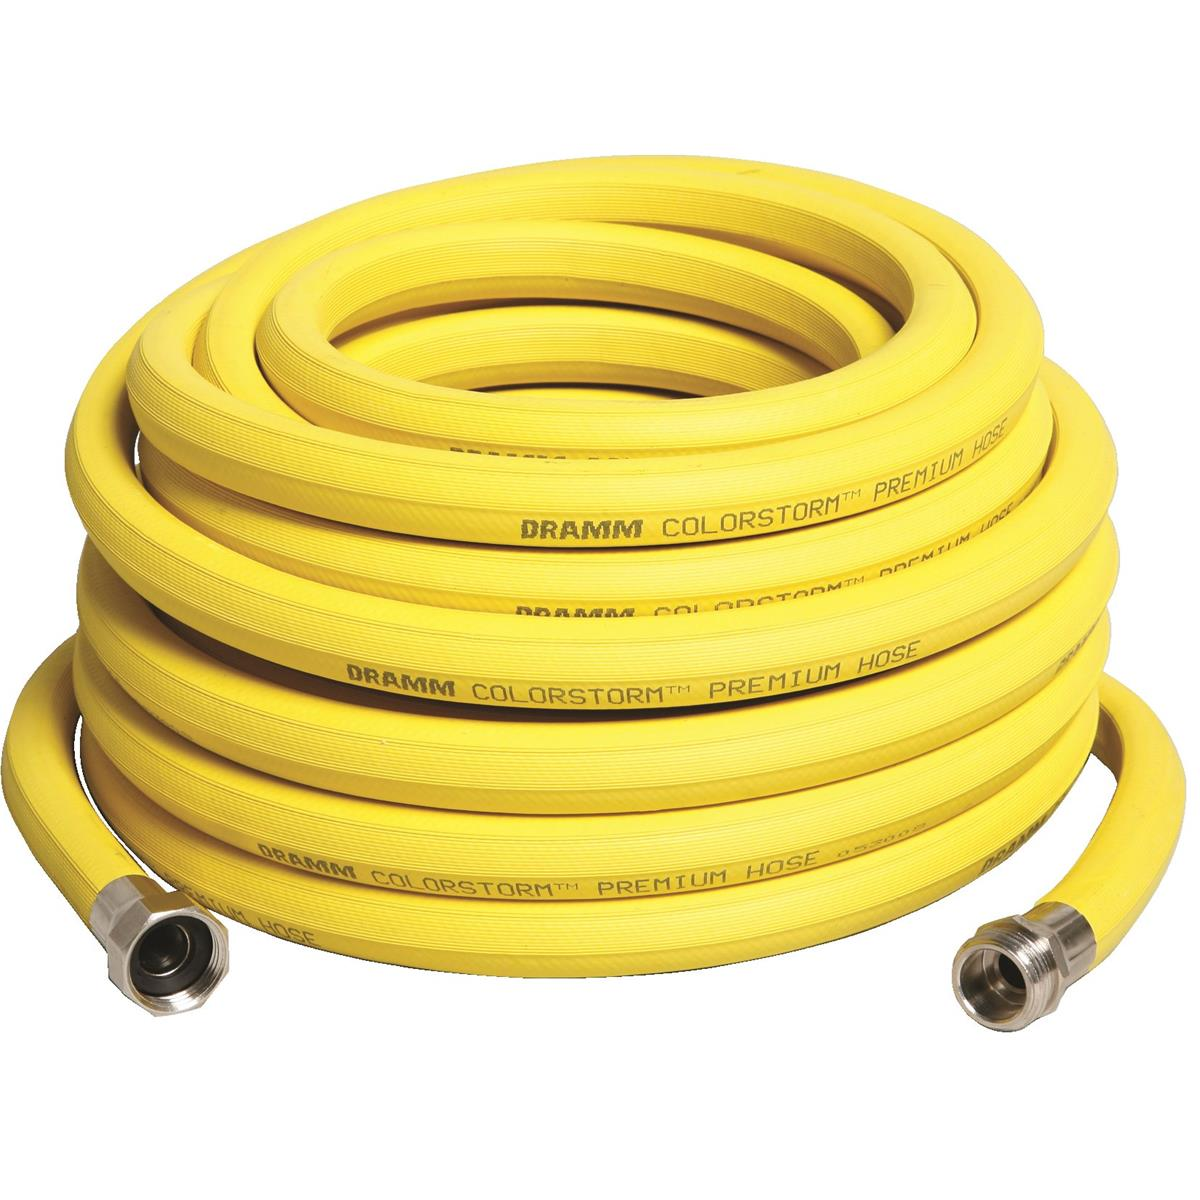Nonrec_Tangler: (1, 125, 1171, 1084)
